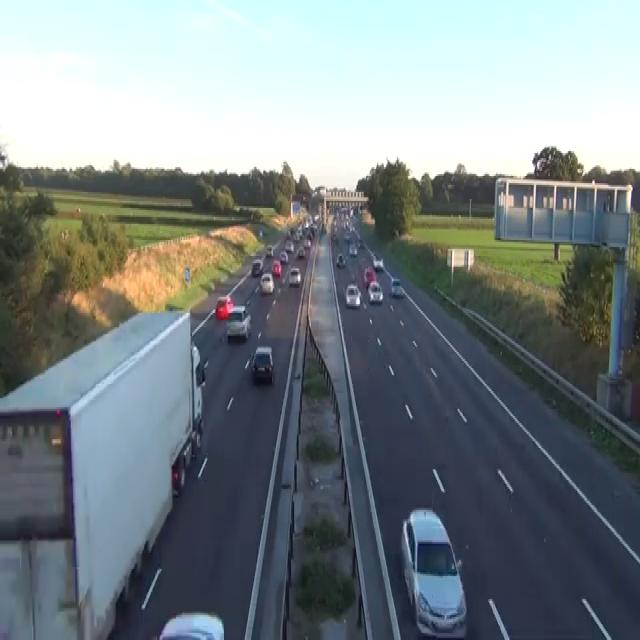Car: (400, 507, 467, 638), (158, 612, 224, 638), (171, 436, 192, 496), (226, 304, 251, 341), (250, 345, 273, 384), (171, 452, 185, 496), (215, 295, 234, 320), (344, 282, 361, 308), (368, 281, 383, 304), (259, 272, 274, 293), (390, 277, 403, 297), (364, 265, 375, 286), (288, 267, 300, 286), (251, 258, 263, 276), (271, 260, 281, 278), (372, 256, 383, 270), (336, 252, 345, 268), (296, 245, 305, 258), (348, 244, 357, 256), (284, 240, 293, 252), (279, 251, 288, 263), (265, 244, 273, 256), (303, 238, 311, 249), (331, 229, 337, 242), (344, 231, 350, 242), (357, 238, 363, 247), (321, 224, 326, 233), (259, 228, 262, 236)
Truck: (0, 308, 205, 638)
